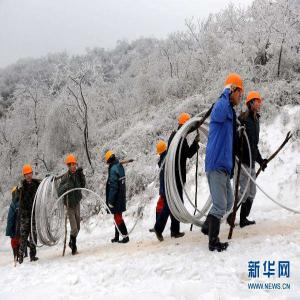yellow: (225, 74, 243, 109), (246, 89, 262, 116), (178, 113, 192, 136), (66, 154, 78, 174), (156, 141, 168, 160), (23, 164, 34, 184), (106, 151, 116, 167)
